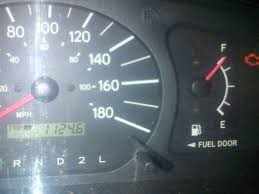Digital_Meter: (6, 125, 88, 137)
